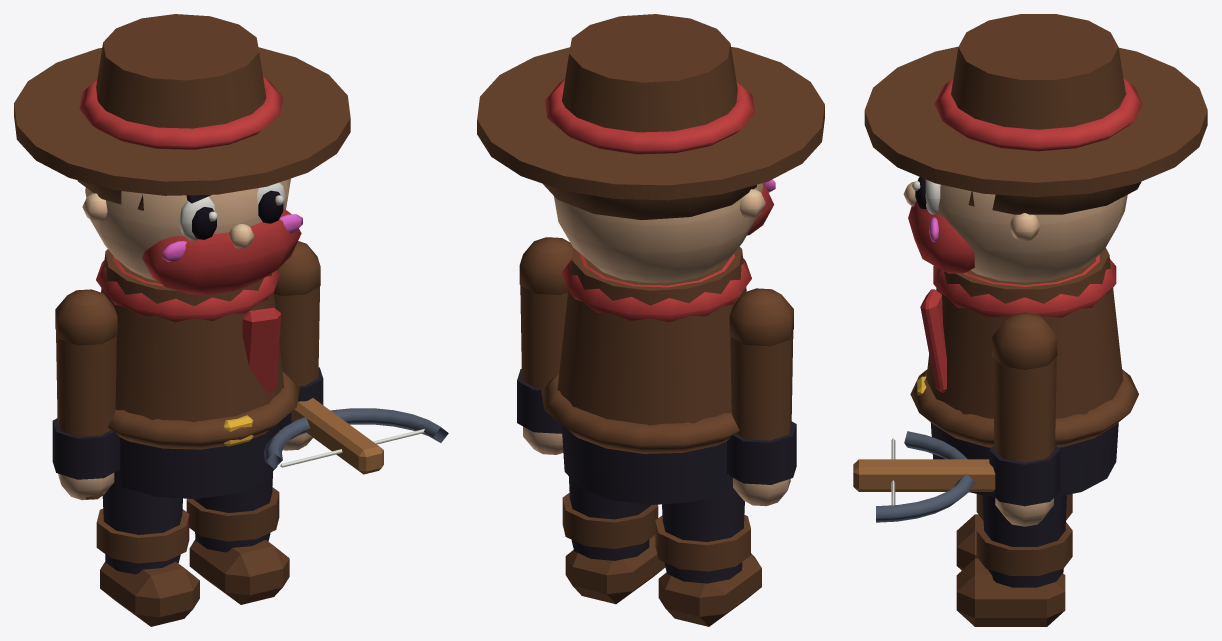
The model's file is hero_silas.glb.
3 views of the same model, side by side, from view 1: azimuth 30°, elevation 25°; view 2: azimuth 150°, elevation 25°; view 3: azimuth 270°, elevation 25° (orthographic). The views are drawn at different scales.
Parts seen in each view (by area): view 1: body_t0_palette, armr_t0_palette, arml_t0_palette, legl_t0_palette, legr_t0_palette; view 2: body_t0_palette, arml_t0_palette, legl_t0_palette, legr_t0_palette, armr_t0_palette; view 3: body_t0_palette, armr_t0_palette, legr_t0_palette, legl_t0_palette.
Part boxes in pixels (box(x1,y1,x2,y2)): body_t0_palette: box(14, 14, 350, 498); armr_t0_palette: box(264, 241, 448, 474); arml_t0_palette: box(52, 289, 120, 500); legl_t0_palette: box(96, 470, 199, 626); legr_t0_palette: box(186, 472, 289, 604); body_t0_palette: box(477, 14, 824, 504); arml_t0_palette: box(727, 288, 796, 506); legl_t0_palette: box(655, 475, 761, 626); legr_t0_palette: box(562, 477, 665, 604); armr_t0_palette: box(517, 237, 573, 454); body_t0_palette: box(864, 14, 1207, 497); armr_t0_palette: box(853, 312, 1060, 526); legr_t0_palette: box(956, 495, 1072, 626); legl_t0_palette: box(956, 494, 1072, 570).
Bounding box in the file's own units: 0.342 × 0.53 × 0.31.
